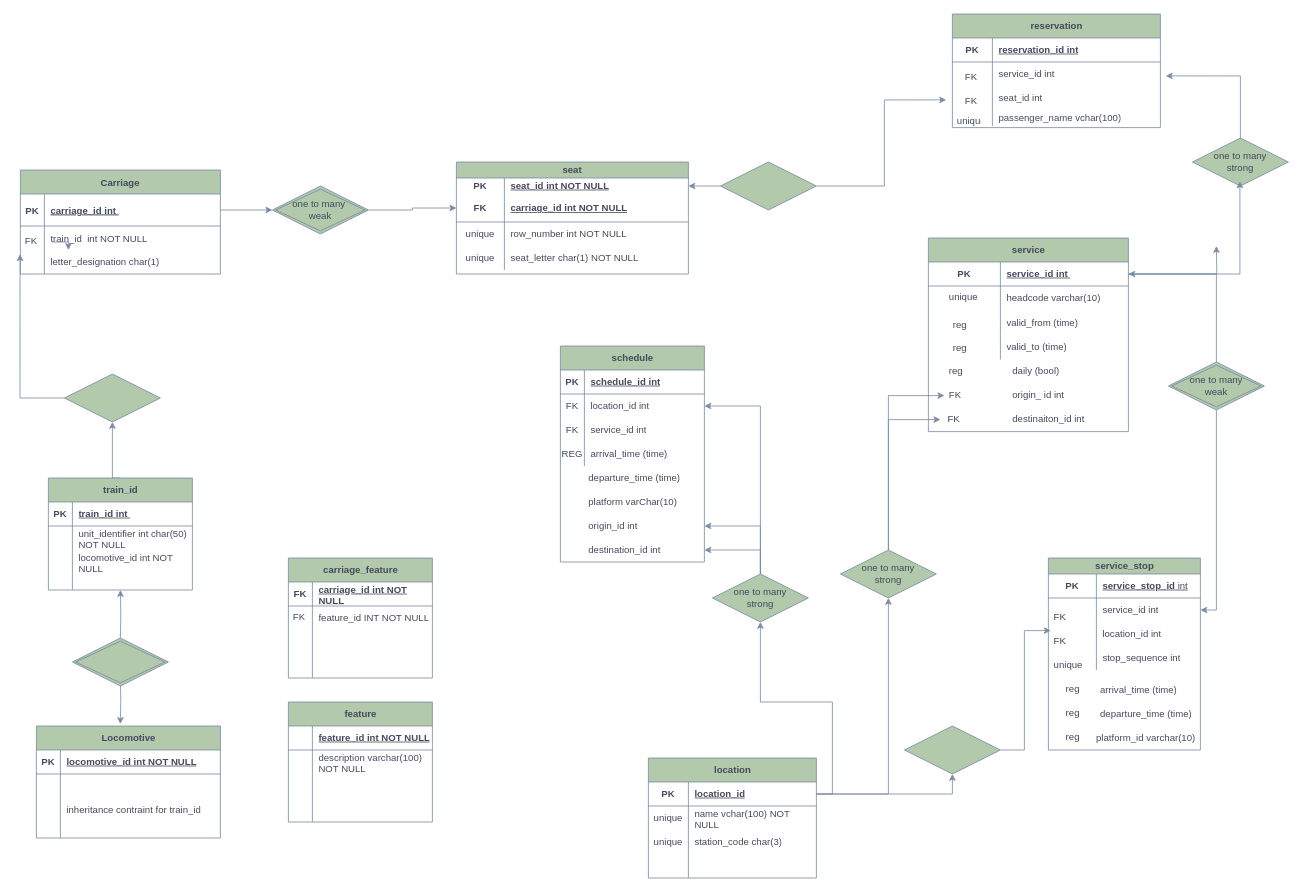
This 1302x892 diagram has some shape labels left out. Each missing label, with the centre of its shape:
"1 to 1 each train has one locomotive" goes at point (120, 661).
"1 to many 1 train id to multiple carriage id" goes at point (112, 397).
"one to one strong" goes at point (768, 185).
"strong one to many" goes at point (952, 749).
